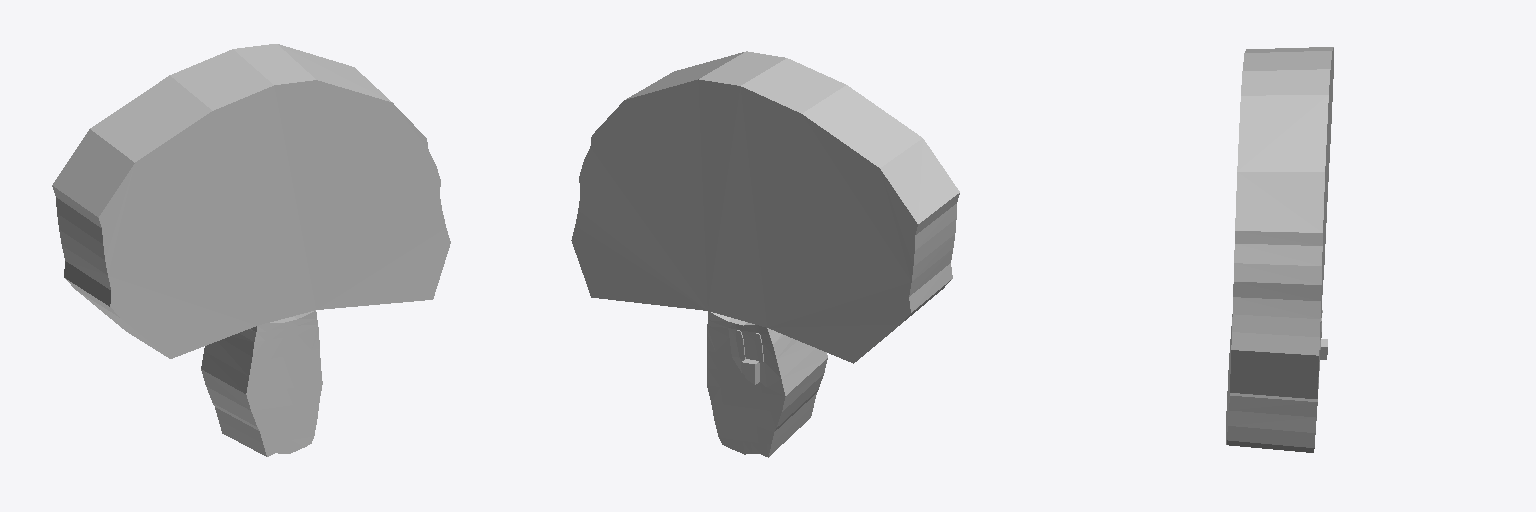
File: tree.obj
3 renders of one model, left to right at view 1: azimuth 30°, elevation 25°; view 2: azimuth 150°, elevation 25°; view 3: azimuth 270°, elevation 25°, orthographic.
Parts seen in each view (by area): view 1: Plane; view 2: Plane; view 3: Plane.
Boxes of the visible parts, x1=… form: Plane: x1=52, y1=44, x2=450, y2=456; Plane: x1=571, y1=51, x2=959, y2=457; Plane: x1=1226, y1=47, x2=1333, y2=452.
Bounding box in the file's own units: 9.88 × 10.01 × 2.62.